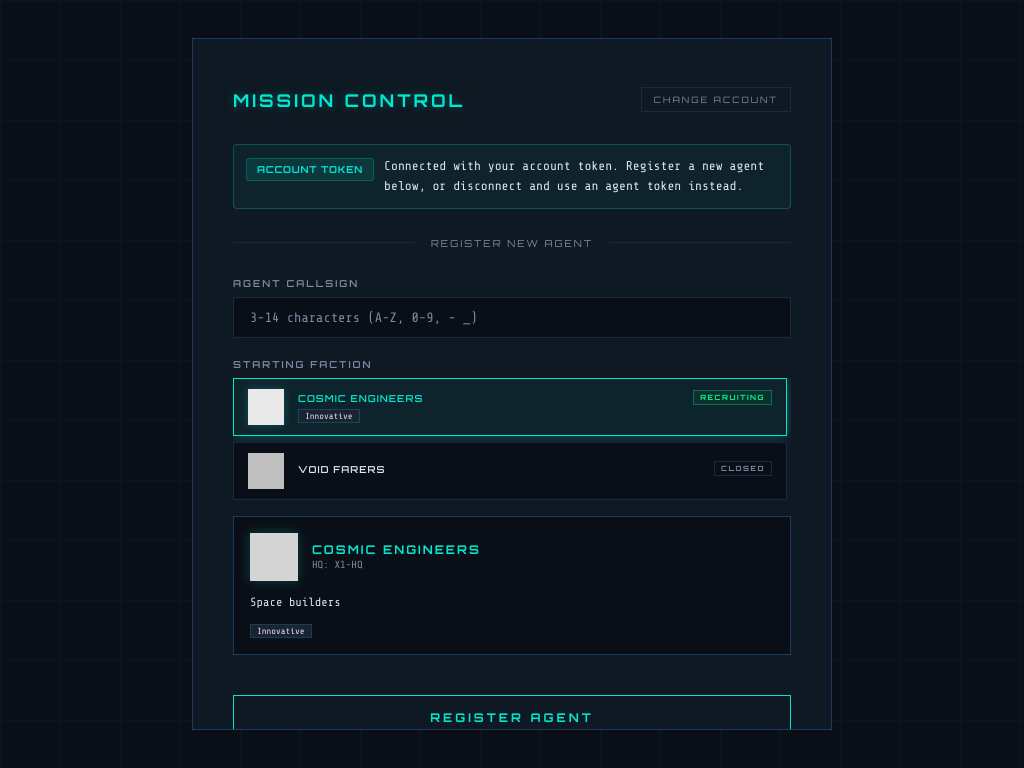
Test: AgentScreen › validates callsign length on register
Type "AB" into the field labelled "Agent Callsign".
click(512, 317); type("AB")  # box [233,297,791,338]
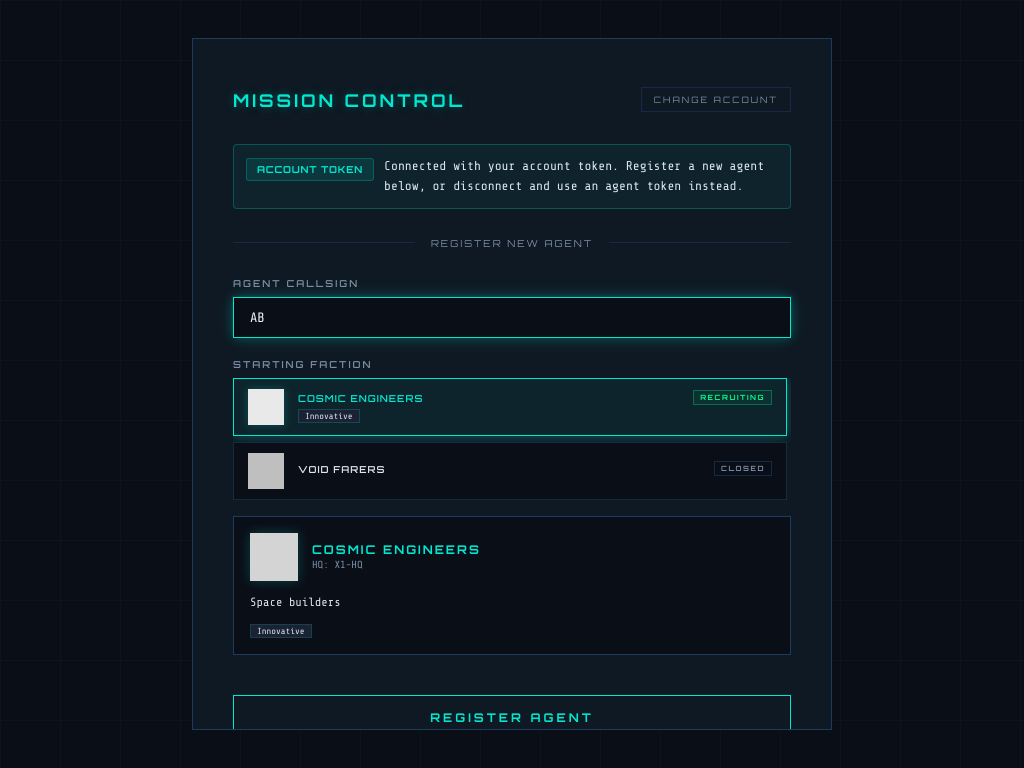
Click the button "Register Agent".
click(512, 718)  # box [233,695,791,740]
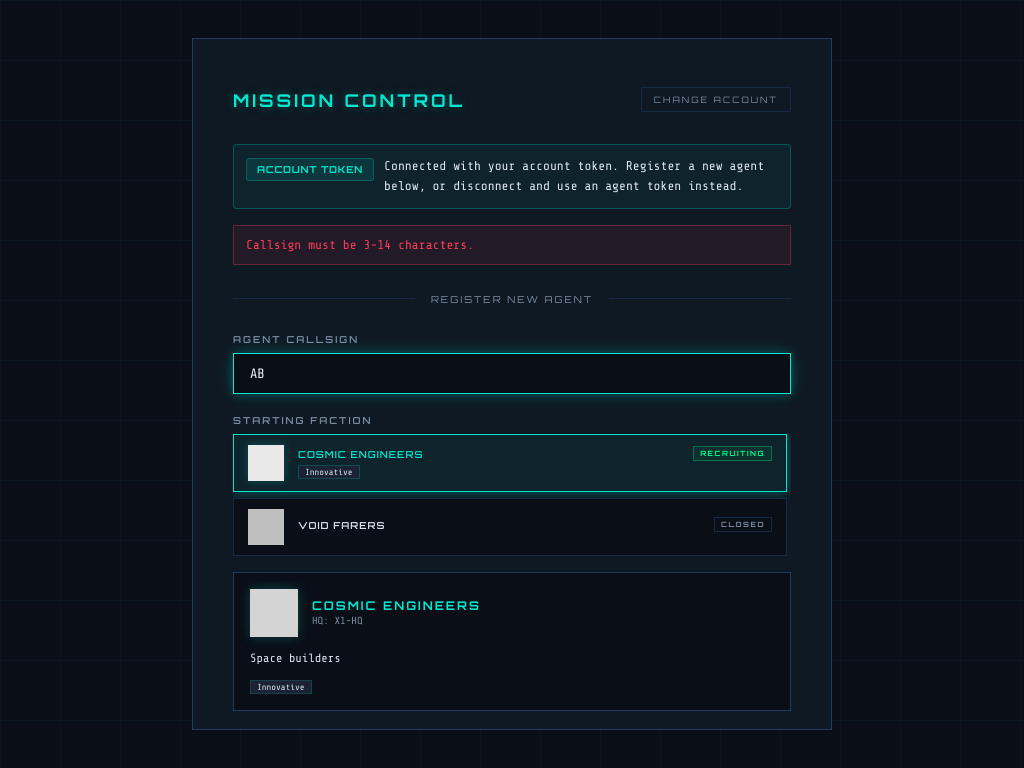
Now the text "Callsign must be 3-14 characters." is shown, box [233,225,791,265]
